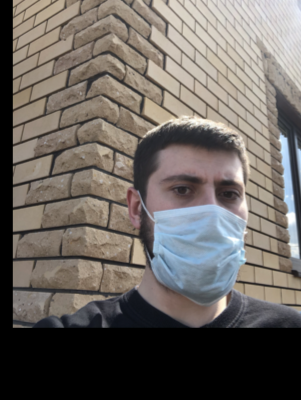with_mask: (142, 162, 246, 307)
